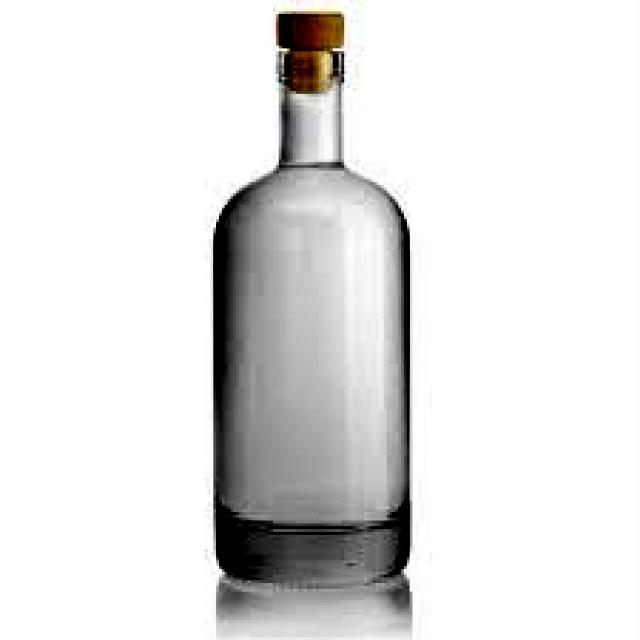Glass: (206, 6, 411, 591)
